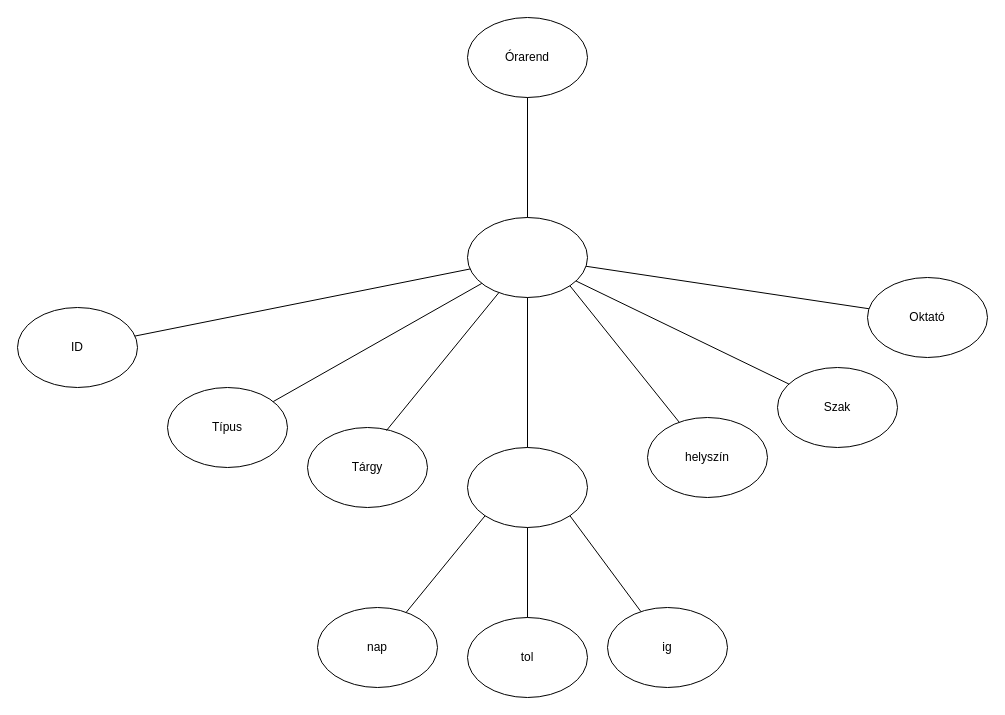
The diagram is 1005 pixels wide and 715 high, and some of its shapes have lost their labels. The shapes that lost their labels are listed below. From the top down, each one's centre as x and y in pixels, then its label:
At (x=527, y=257): "Óra".
At (x=527, y=487): "időpont".
